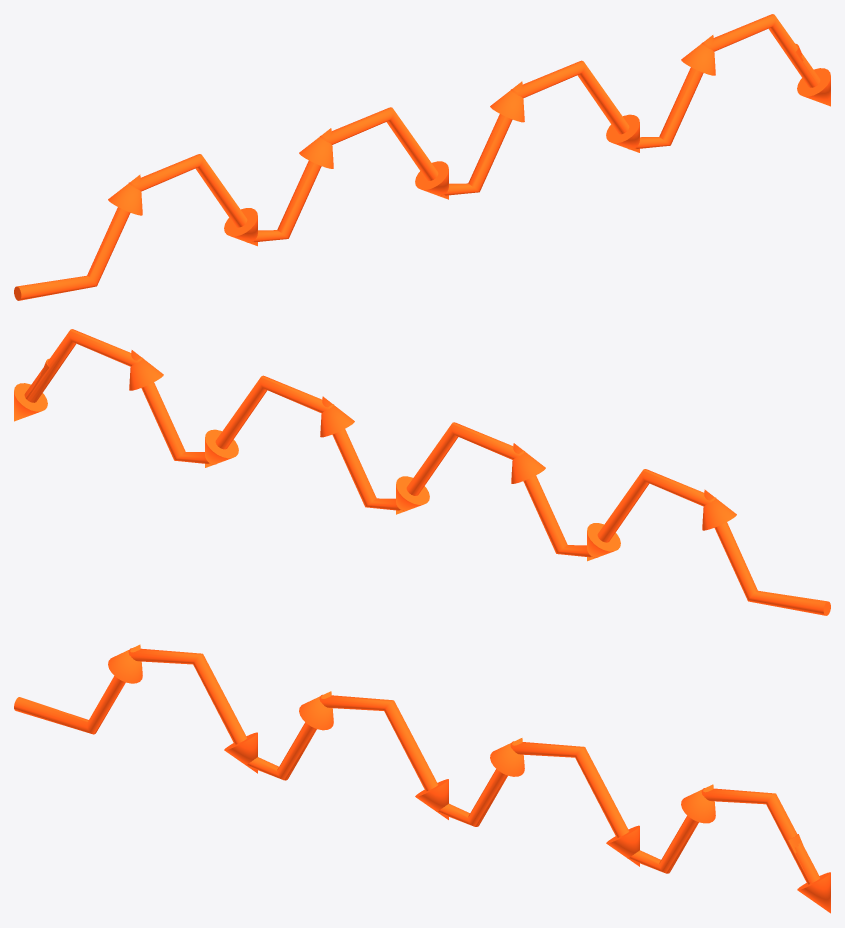
File: rotor_assembly_flow.glb
The picture shows the model from 3 angles, top to bottom: view 1: azimuth 30°, elevation 25°; view 2: azimuth 150°, elevation 25°; view 3: azimuth 330°, elevation 25°; orthographic projection.
Parts seen in each view (by area): view 1: liquid_through_stages; view 2: liquid_through_stages; view 3: liquid_through_stages.
Boxes of the visible parts, x1,y1,x2,y2 form: liquid_through_stages: (14, 14, 830, 300); liquid_through_stages: (14, 329, 830, 615); liquid_through_stages: (14, 644, 830, 913).
Size of the model in its own units: 0.7668 by 0.0952 by 0.0312.
